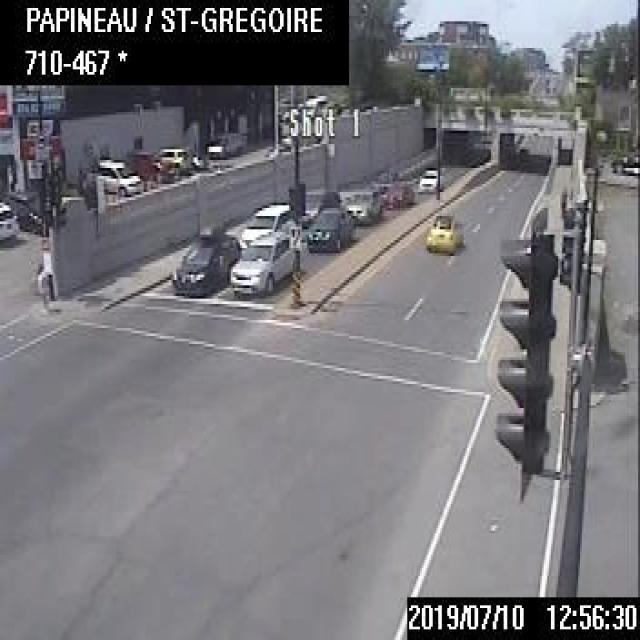vehicle: (169, 227, 240, 300), (229, 230, 293, 299), (238, 198, 292, 245), (84, 156, 142, 198), (303, 209, 352, 254), (420, 208, 464, 256), (152, 143, 190, 181), (344, 188, 383, 222), (383, 181, 415, 209), (0, 200, 18, 248), (416, 167, 440, 192)
